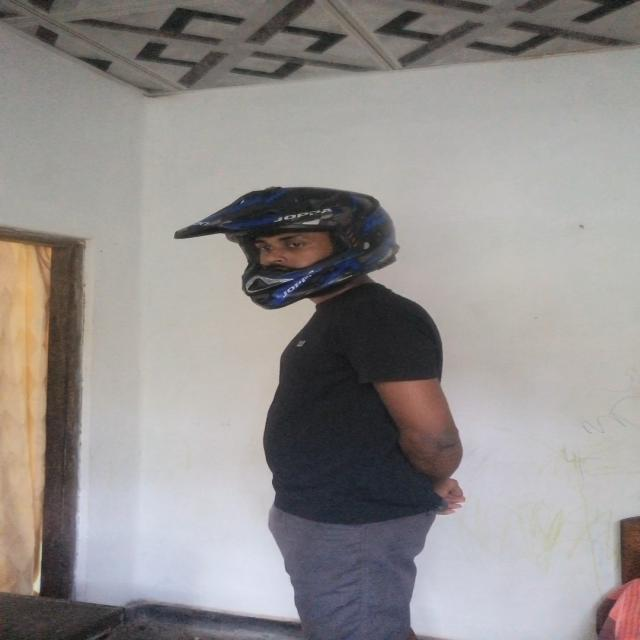Helmet_Wearer: (180, 184, 422, 314)
Person: (213, 185, 517, 637)
